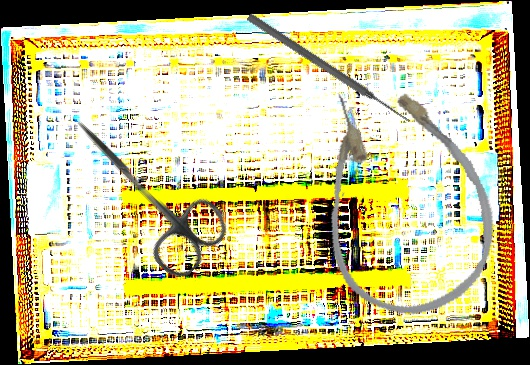Cannula: (294, 63, 514, 332)
Iris Scissors: (47, 95, 237, 285)
Pusher: (245, 11, 413, 127)
